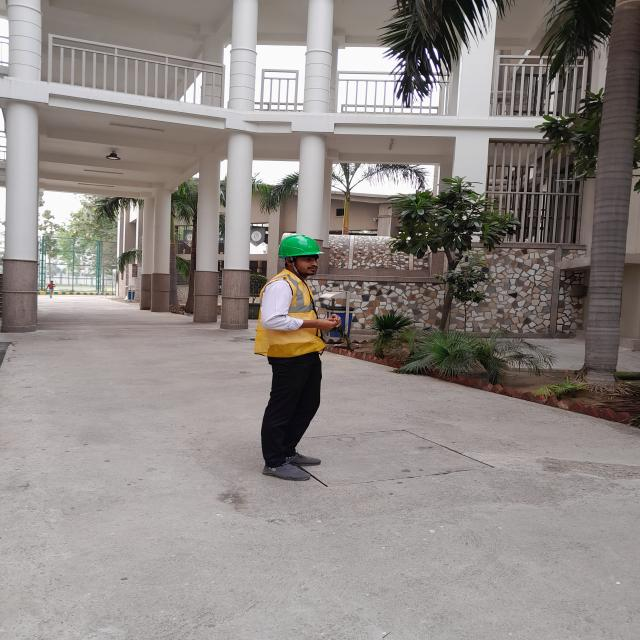safe: (255, 234, 336, 480)
